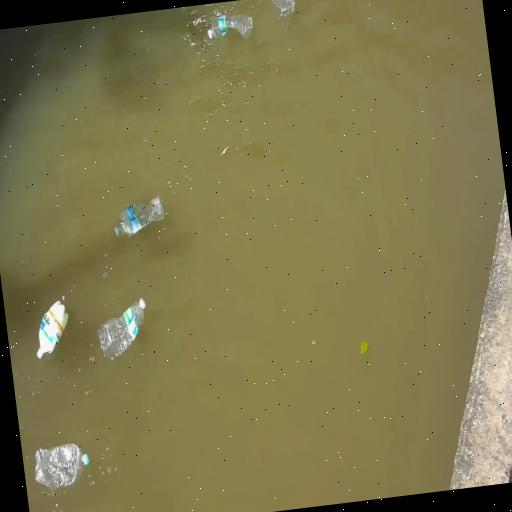plastic: (98, 298, 145, 360), (35, 444, 89, 490), (115, 196, 164, 236), (37, 301, 68, 358), (207, 15, 253, 39)
